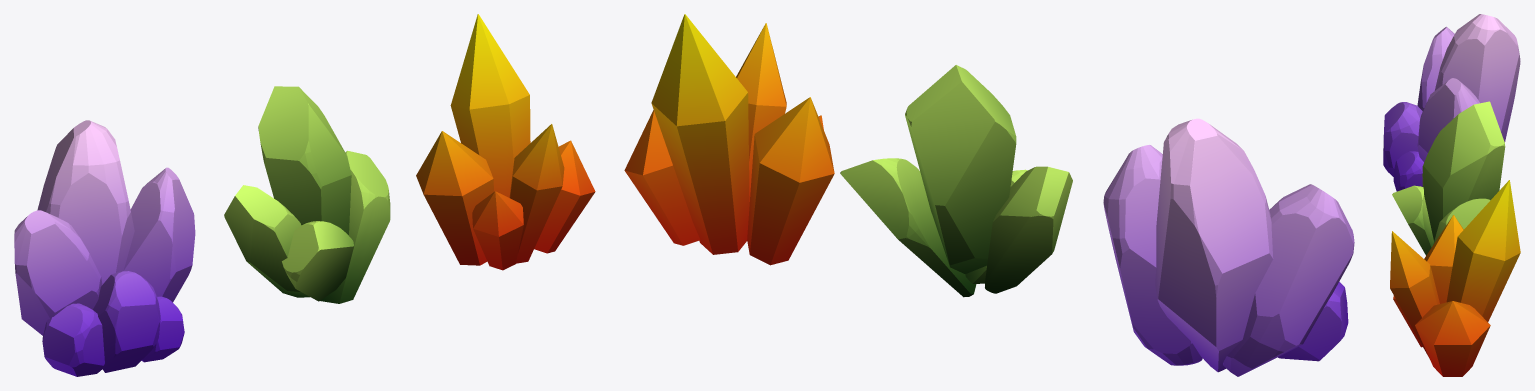
Rendered from CRYSTALS_TEXTURE.fbx.
3 renders of one model, left to right at view 1: azimuth 30°, elevation 25°; view 2: azimuth 150°, elevation 25°; view 3: azimuth 270°, elevation 25°, orthographic. The views are drawn at different scales.
Parts seen in each view (by area): view 1: Sphere.004; view 2: Sphere.004; view 3: Sphere.004.
Boxes of the visible parts, x1=… form: Sphere.004: x1=14, y1=14, x2=595, y2=376; Sphere.004: x1=624, y1=14, x2=1354, y2=376; Sphere.004: x1=1383, y1=14, x2=1520, y2=376.
Bounding box in the file's own units: 1863 × 677 × 459.
3 materials, 3 textured.
